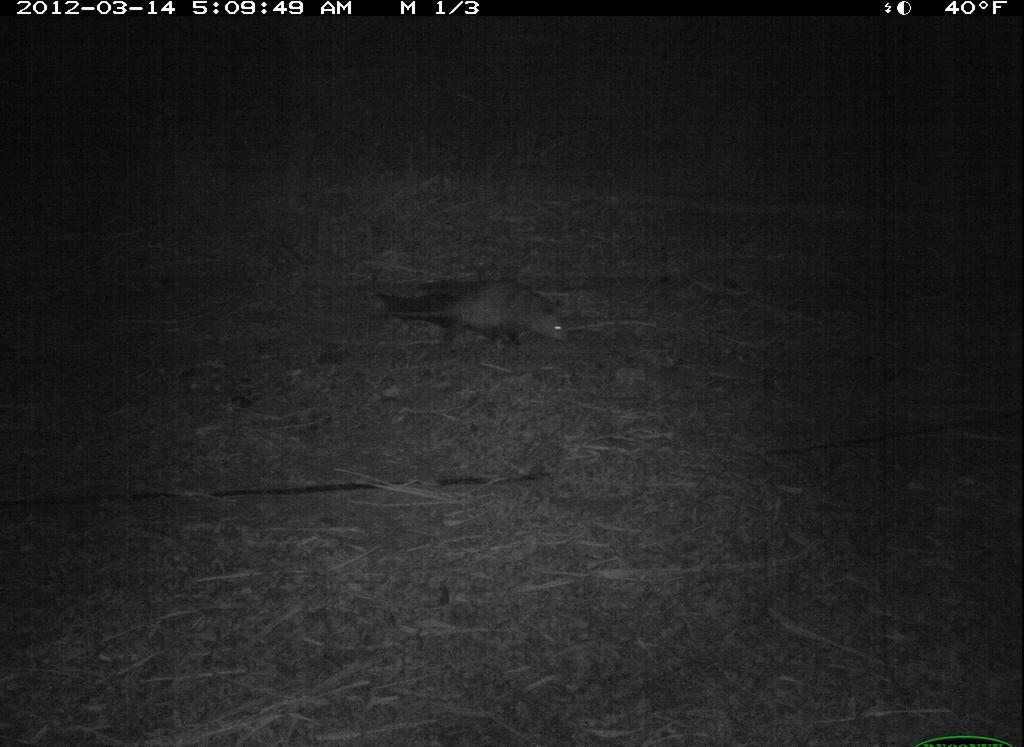opossum: (374, 268, 575, 360)
